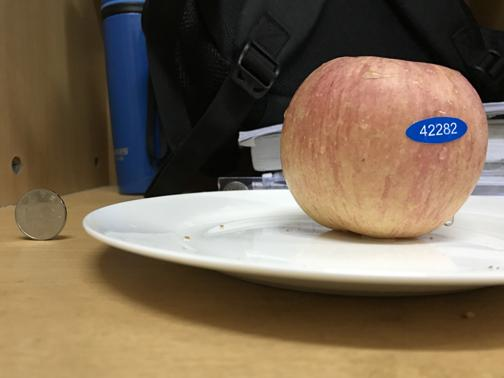apple: (281, 52, 487, 239)
coin: (12, 187, 66, 241)
